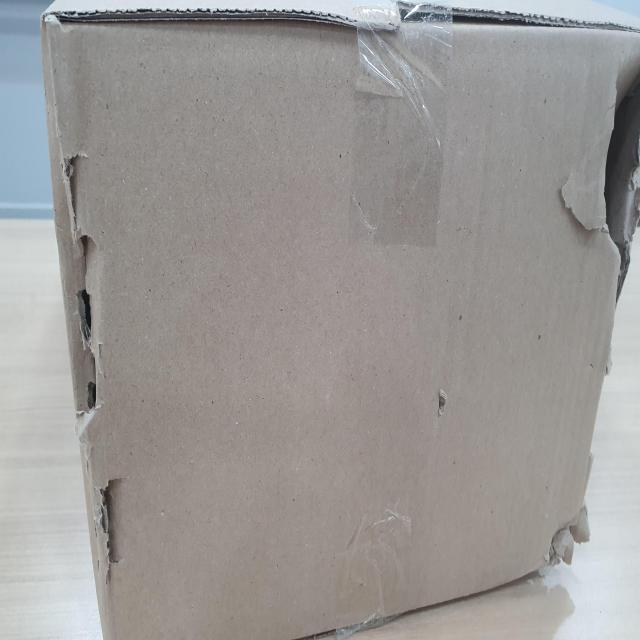damaged: (59, 164, 122, 554), (585, 34, 640, 269)
